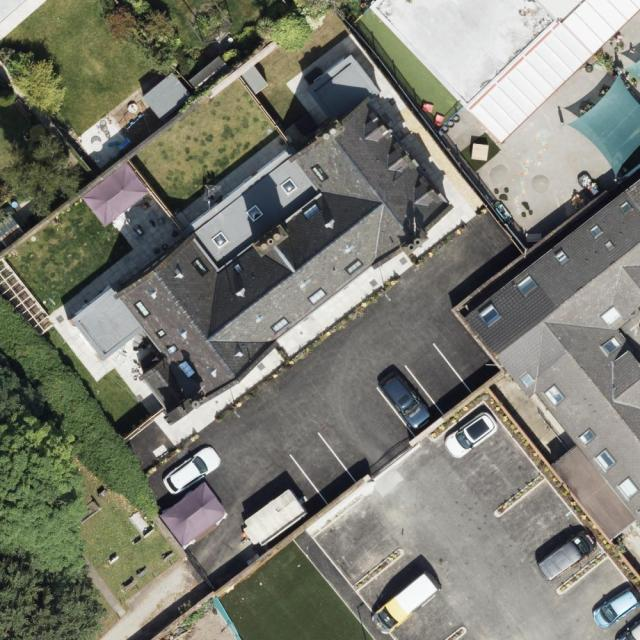roof: (71, 97, 453, 426), (465, 177, 640, 525), (367, 0, 640, 144)
skylight: (616, 474, 639, 502), (594, 446, 618, 472), (600, 307, 625, 329), (478, 305, 503, 326), (517, 274, 538, 298), (545, 383, 566, 407), (191, 256, 212, 278), (178, 358, 198, 380), (311, 162, 330, 184), (210, 228, 229, 250), (601, 336, 622, 355), (307, 287, 327, 306), (578, 427, 597, 446), (346, 257, 364, 276), (302, 203, 321, 220), (552, 248, 571, 265), (246, 205, 264, 222), (280, 177, 297, 195), (272, 317, 291, 333), (135, 299, 150, 319), (519, 372, 535, 389), (619, 201, 634, 216), (591, 224, 604, 240), (604, 239, 616, 252), (167, 343, 179, 355), (234, 263, 245, 274), (156, 328, 167, 338)
